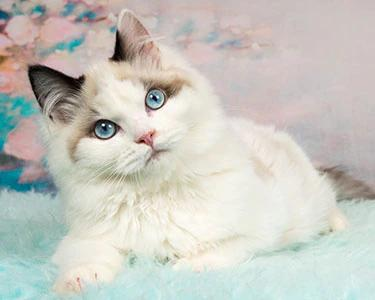ragdoll: (27, 1, 217, 221)
